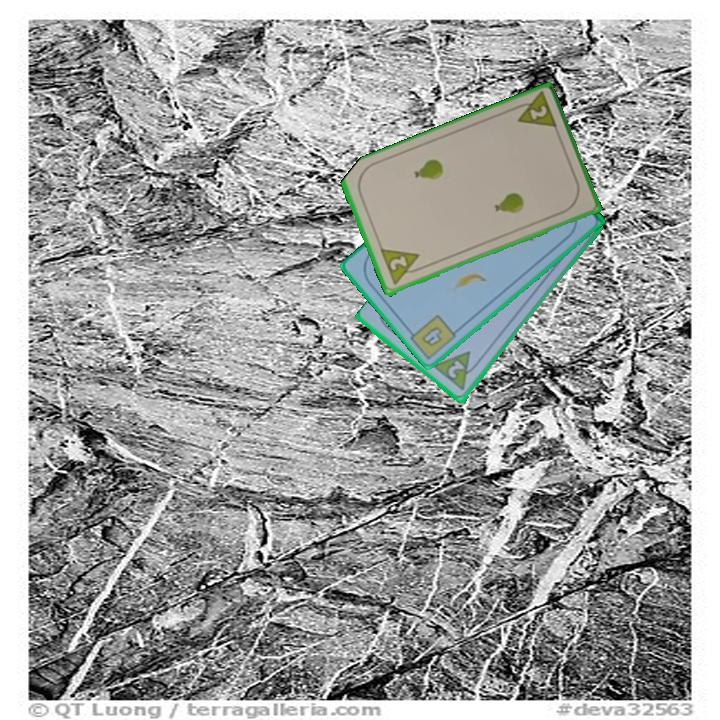2p: (431, 348, 484, 394), (508, 90, 560, 132), (377, 246, 427, 289)
4b: (404, 311, 459, 360)
